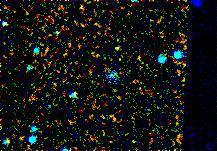star: (102, 30, 132, 60)
